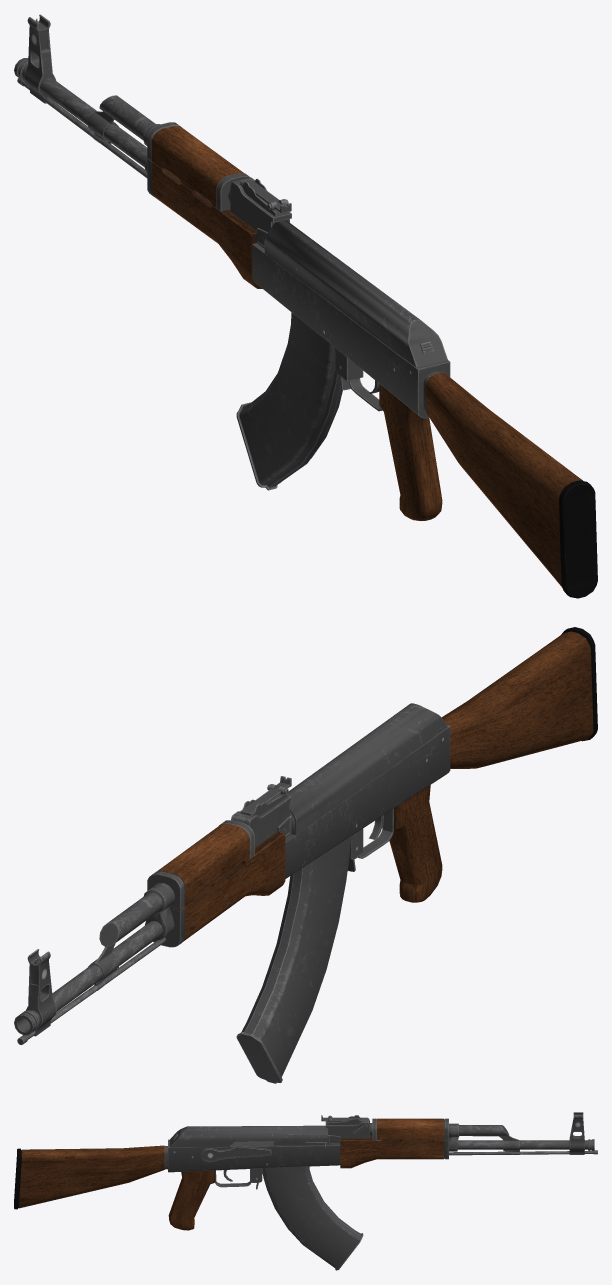
3 views of the same model, one above another, from view 1: azimuth 30°, elevation 25°; view 2: azimuth 150°, elevation 25°; view 3: azimuth 270°, elevation 25° (orthographic). The views are drawn at different scales.
Parts seen in each view (by area): view 1: AK_47, Magazine; view 2: AK_47, Magazine; view 3: AK_47, Magazine, Selector_Switch, Ejection_Port.
Boxes of the visible parts, x1,y1,x2,y2 form: AK_47: [14, 14, 597, 598]; Magazine: [236, 312, 342, 490]; AK_47: [14, 627, 597, 1044]; Magazine: [236, 836, 350, 1083]; AK_47: [14, 1112, 597, 1230]; Magazine: [262, 1166, 363, 1270]; Selector_Switch: [201, 1145, 271, 1162]; Ejection_Port: [273, 1134, 327, 1148].
Size of the model in its own units: 0.0399 by 0.2582 by 0.8765.
Materials: 1 (1 with a texture image).
